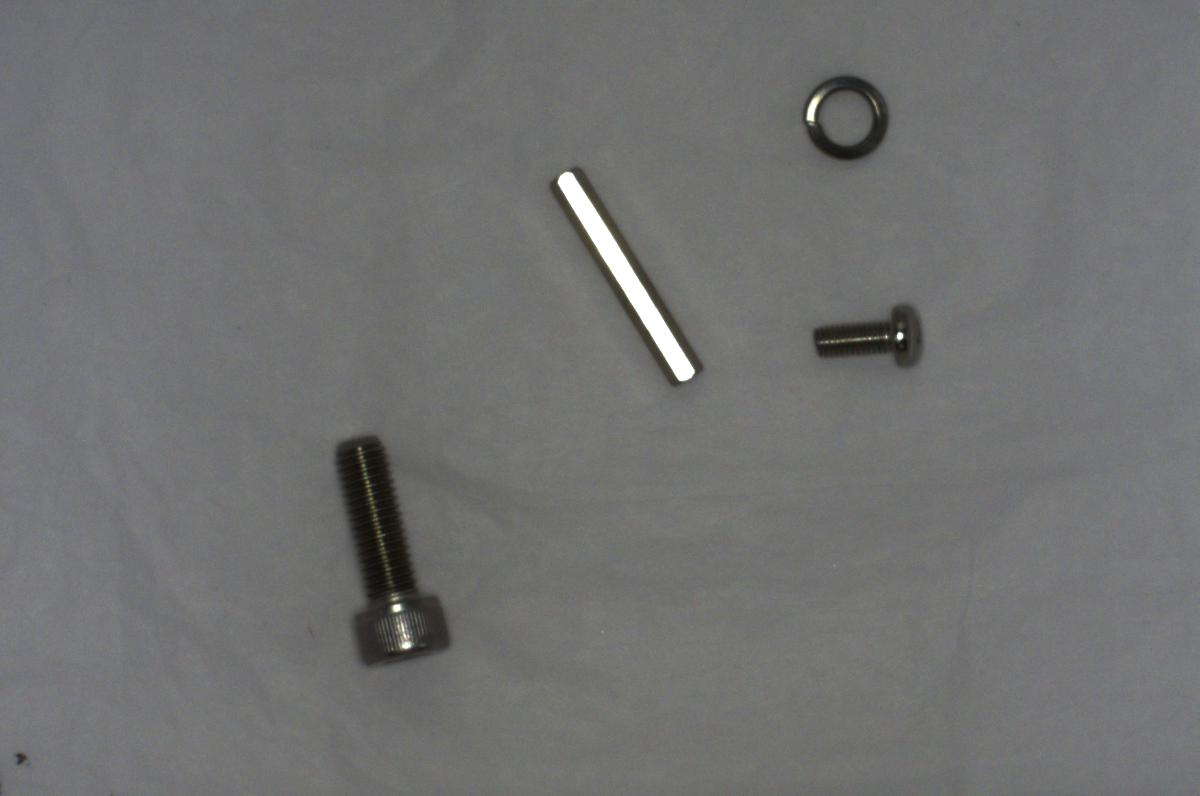Double hexagonal column: (550, 159, 712, 398)
Hexagon screw: (335, 430, 451, 670)
Round head screw: (801, 298, 934, 373)
Spring washer: (795, 69, 900, 165)
